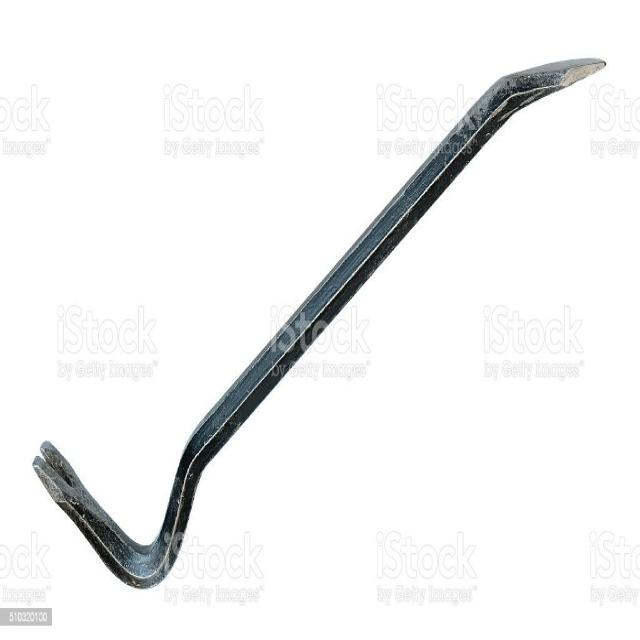Linggis: (34, 55, 609, 588)
